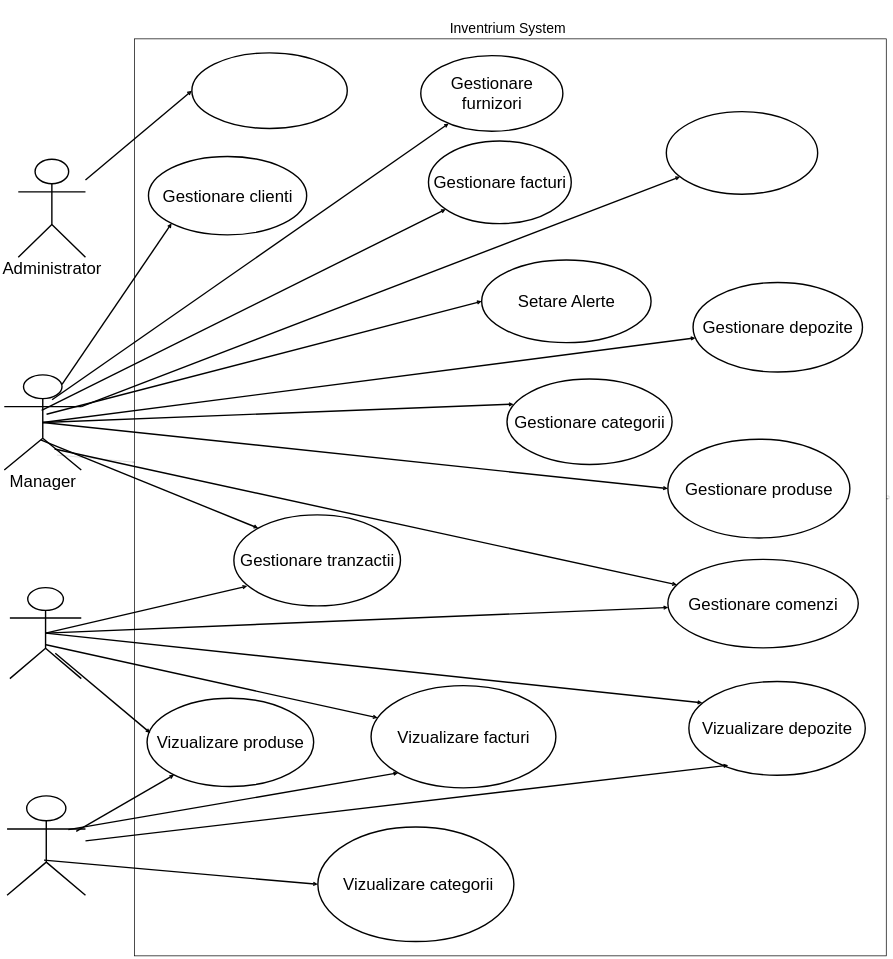
The diagram is 893 pixels wide and 959 high, and some of its shapes have lost their labels. Here are the shapes that lost their labels. From the top down, the centre of each, then its label:
At (x=269, y=90): "Acces complet".
At (x=742, y=153): "Generare Rapoarte".
At (x=45, y=633): "Operator".
At (x=46, y=845): "Vizualizator".
